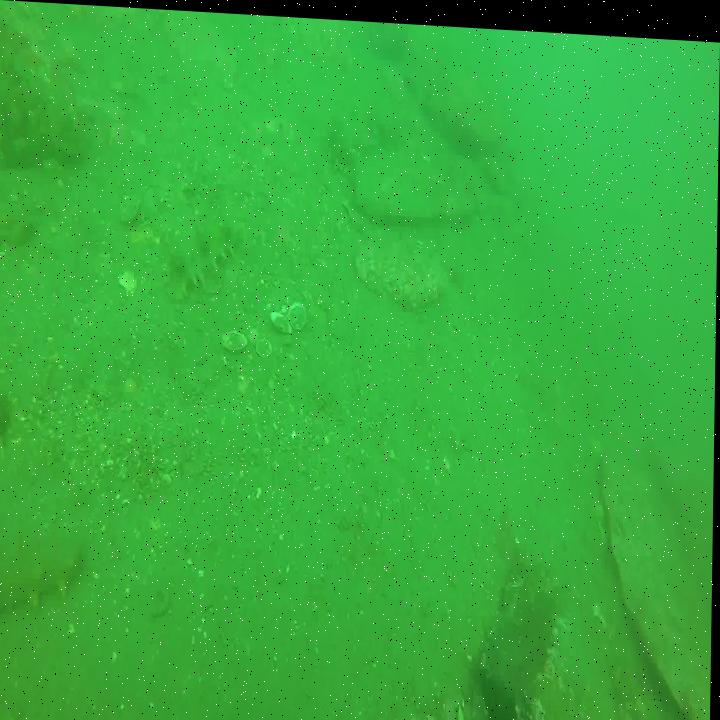holothurian: (0, 534, 93, 623), (167, 213, 239, 300), (322, 107, 363, 170)
